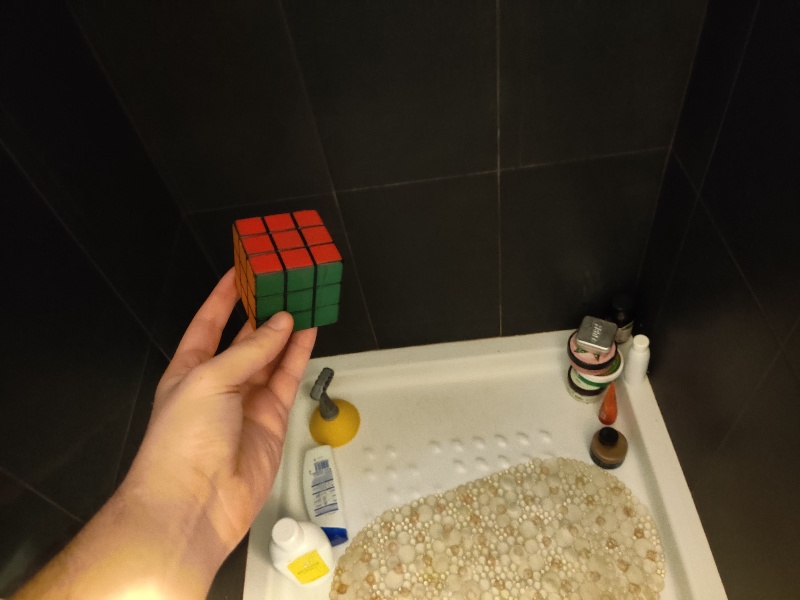rubik: (234, 209, 342, 331)
